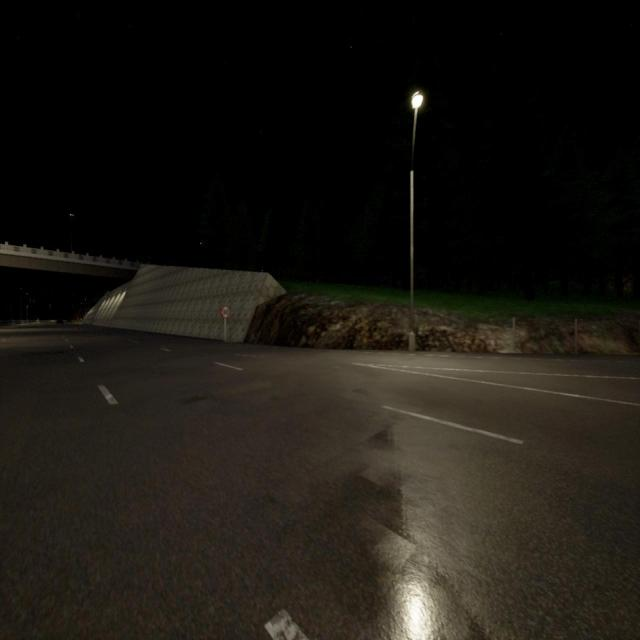Traffic_Signs: (220, 305, 230, 318)
